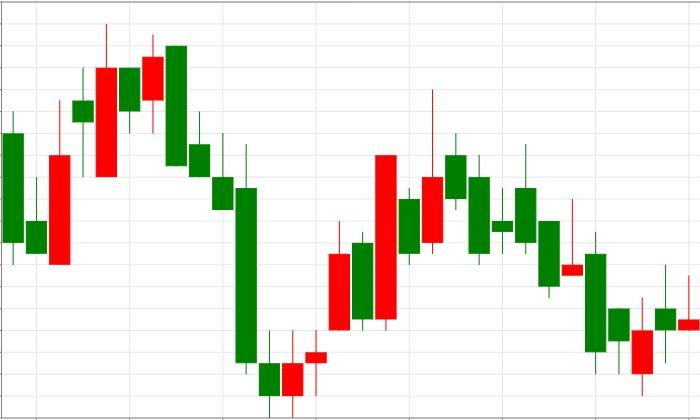bullish_engulfing_rise: (166, 45, 304, 418)
